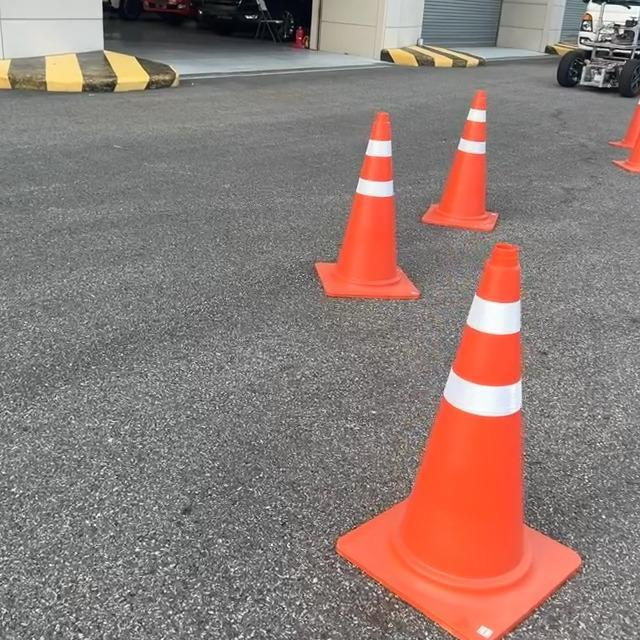fallen_object: (376, 220, 569, 640), (399, 60, 536, 284), (310, 86, 408, 296)
